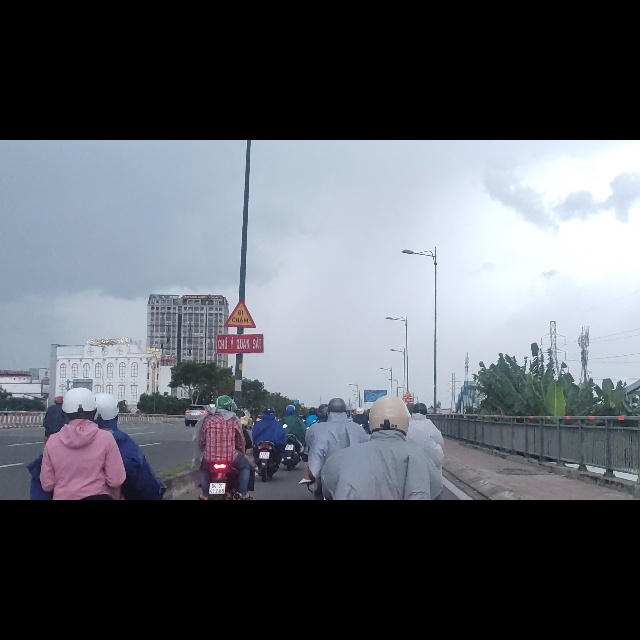bien_cam: (224, 282, 256, 335)
